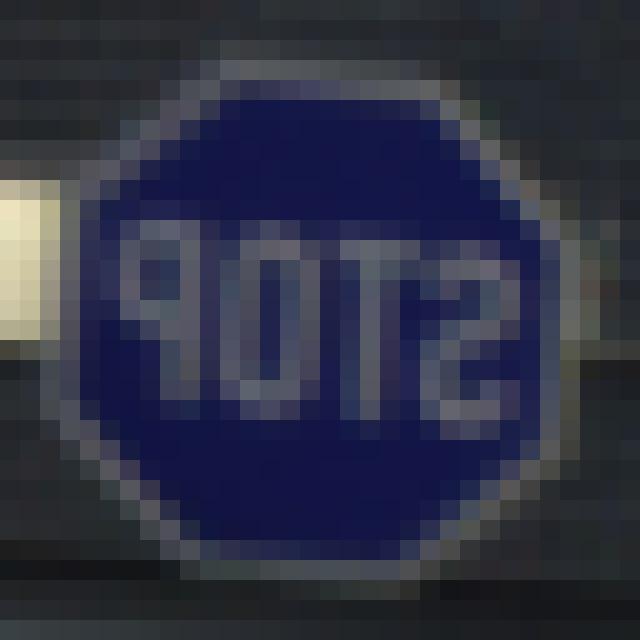STOP: (65, 66, 562, 573)
